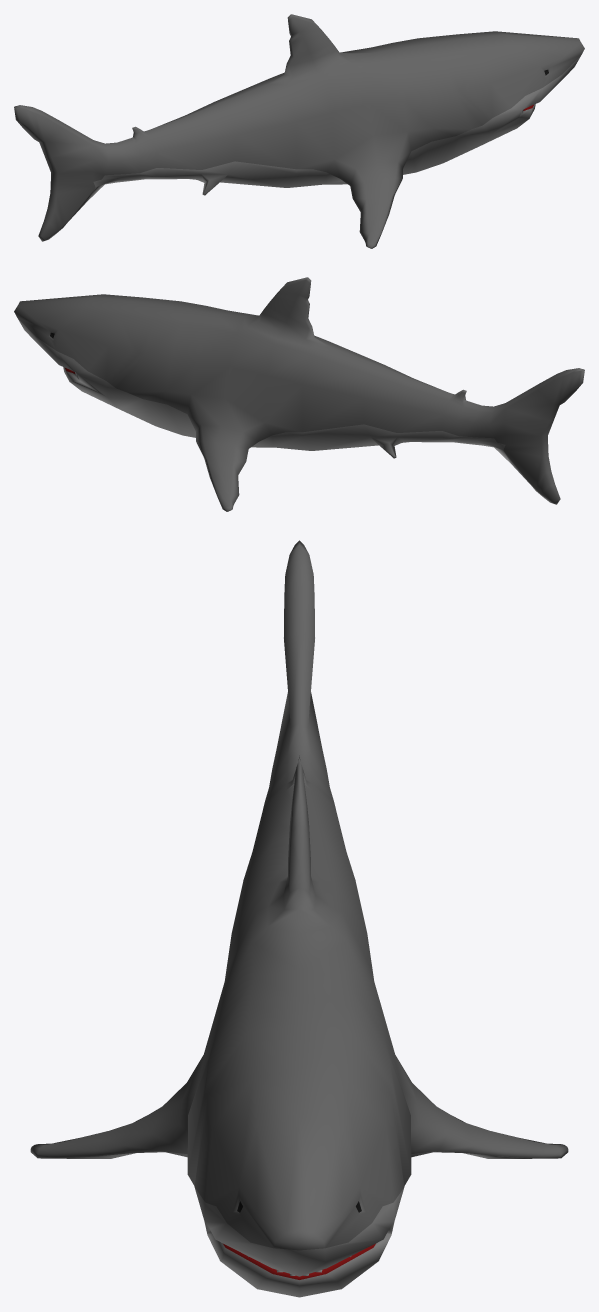
Rendered from SharkV1.fbx.
The picture shows the model from 3 angles, top to bottom: view 1: azimuth 30°, elevation 25°; view 2: azimuth 150°, elevation 25°; view 3: azimuth 270°, elevation 25°; orthographic projection. The views are drawn at different scales.
Parts seen in each view (by area): view 1: SharkV1; view 2: SharkV1; view 3: SharkV1.
Part boxes in pixels (left/top/right/bottom): SharkV1: left=14, top=14, right=584, bottom=248; SharkV1: left=14, top=277, right=584, bottom=511; SharkV1: left=30, top=540, right=568, bottom=1297.
Bounding box in the file's own units: 388 × 124 × 159.
